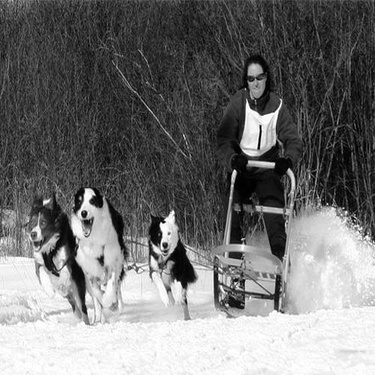dog: (58, 170, 139, 323), (18, 181, 96, 332), (133, 204, 200, 331)
